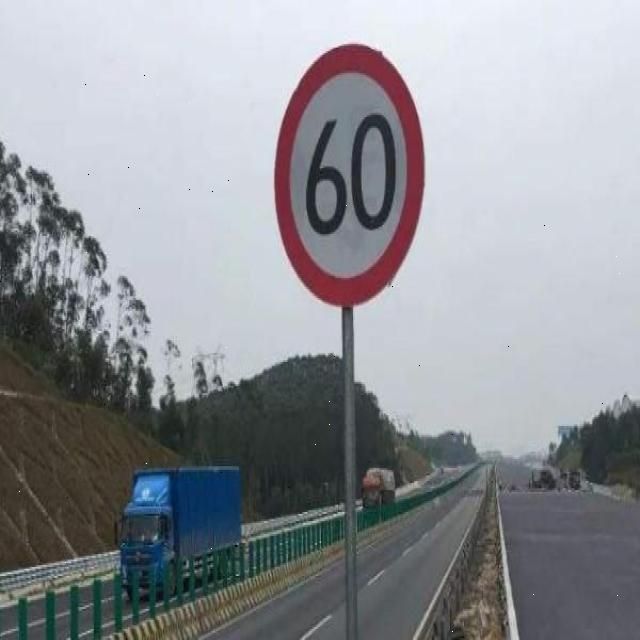speed limit 60: (272, 43, 426, 305)
